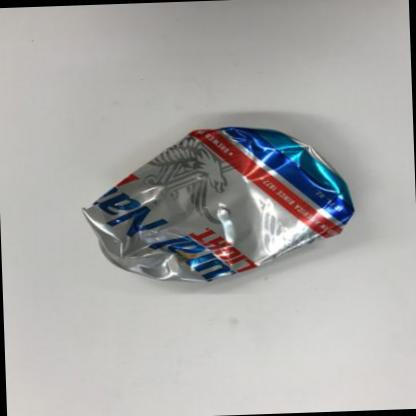Metal: (82, 125, 354, 281)
